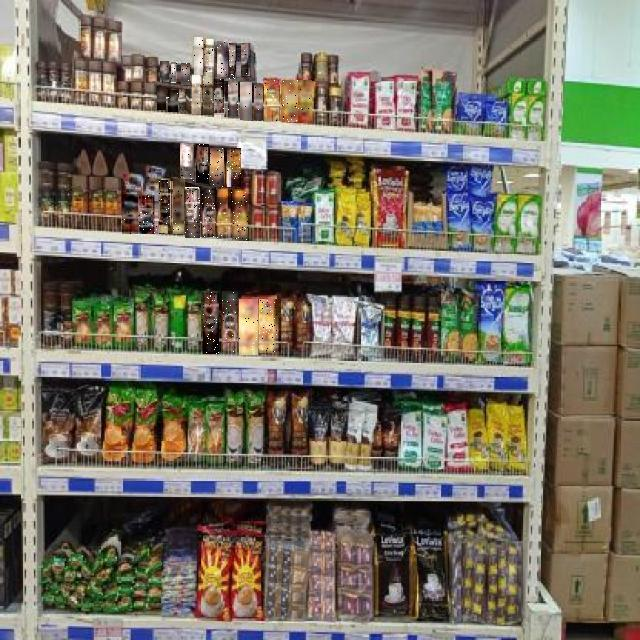Coffee: (239, 299, 258, 355), (203, 291, 219, 354), (222, 291, 238, 354), (260, 299, 278, 353), (232, 191, 248, 240), (185, 187, 200, 238), (217, 189, 232, 239), (202, 187, 216, 238), (140, 195, 158, 234), (265, 80, 281, 122), (282, 80, 298, 122), (122, 194, 138, 234), (299, 80, 313, 123), (159, 180, 170, 234), (173, 181, 184, 235), (211, 148, 225, 187), (227, 148, 241, 187), (180, 144, 194, 182), (196, 144, 209, 184), (240, 83, 252, 121), (242, 44, 254, 80), (214, 80, 224, 118), (228, 80, 238, 118), (204, 40, 214, 76), (218, 41, 228, 77), (230, 43, 240, 79), (203, 77, 212, 115), (194, 37, 203, 75), (254, 85, 263, 120), (192, 75, 200, 114), (180, 90, 190, 114), (168, 90, 178, 112), (157, 88, 166, 110), (181, 63, 190, 85), (160, 61, 169, 82), (172, 62, 180, 83)
